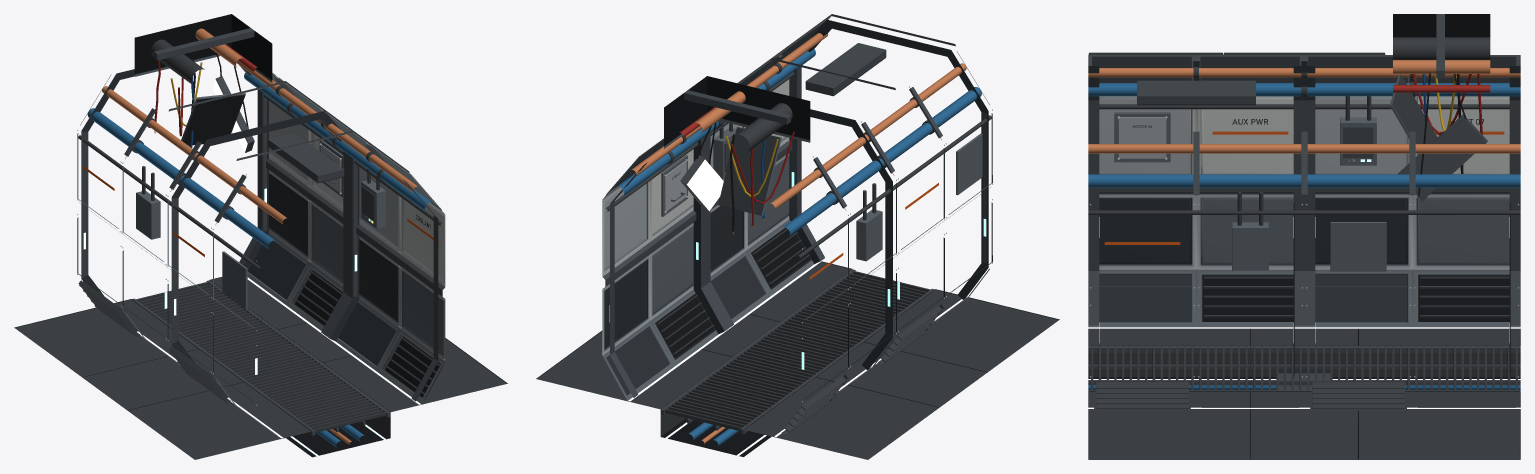
Rendered from corridor_straight_broken.glb.
3 views of the same model, side by side, from view 1: azimuth 30°, elevation 25°; view 2: azimuth 150°, elevation 25°; view 3: azimuth 270°, elevation 25° (orthographic). The views are drawn at different scales.
Parts seen in each view (by area): view 1: corridor_straight_broken_body, corridor_straight_broken_detail, corridor_straight_broken_pipes, corridor_straight_broken_decal; view 2: corridor_straight_broken_body, corridor_straight_broken_detail, corridor_straight_broken_pipes, corridor_straight_broken_decal; view 3: corridor_straight_broken_body, corridor_straight_broken_detail, corridor_straight_broken_pipes, corridor_straight_broken_decal.
Part boxes in pixels (bbox=[...]): corridor_straight_broken_body: bbox=[14, 14, 507, 459]; corridor_straight_broken_detail: bbox=[77, 28, 444, 435]; corridor_straight_broken_pipes: bbox=[78, 28, 442, 447]; corridor_straight_broken_decal: bbox=[82, 155, 439, 455]; corridor_straight_broken_body: bbox=[536, 14, 1059, 459]; corridor_straight_broken_detail: bbox=[603, 43, 992, 434]; corridor_straight_broken_pipes: bbox=[605, 33, 991, 446]; corridor_straight_broken_decal: bbox=[609, 172, 986, 455]; corridor_straight_broken_body: bbox=[1088, 14, 1520, 459]; corridor_straight_broken_detail: bbox=[1088, 14, 1520, 409]; corridor_straight_broken_pipes: bbox=[1088, 37, 1520, 389]; corridor_straight_broken_decal: bbox=[1088, 119, 1520, 408].
Bounding box in the file's own units: 4 × 3.65 × 4.
